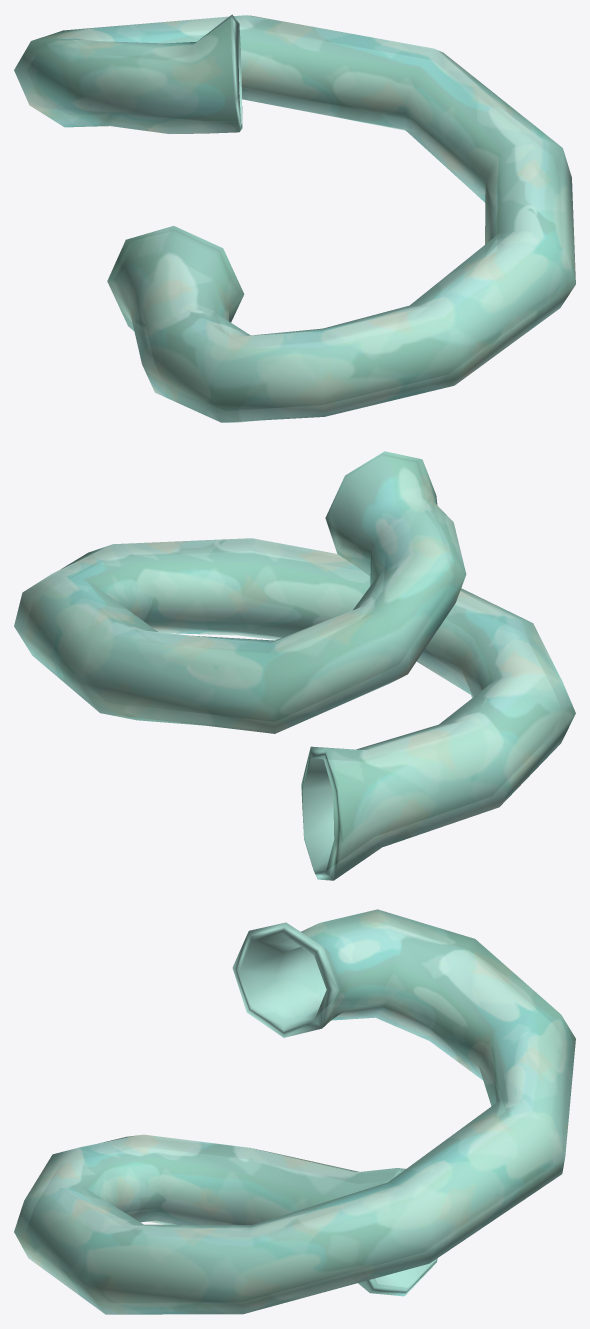
The model's file is Loop 02.fbx.
3 renders of one model, top to bottom at view 1: azimuth 30°, elevation 25°; view 2: azimuth 150°, elevation 25°; view 3: azimuth 270°, elevation 25°, orthographic. The views are drawn at different scales.
Visible parts, largest first — view 1: pCylinder12; view 2: pCylinder12; view 3: pCylinder12.
Part boxes in pixels (<box>): pCylinder12: <box>14,14,575,422</box>; pCylinder12: <box>14,451,575,880</box>; pCylinder12: <box>14,909,575,1314</box>.
Size of the model in its own units: 83.2 by 68.03 by 93.29.
